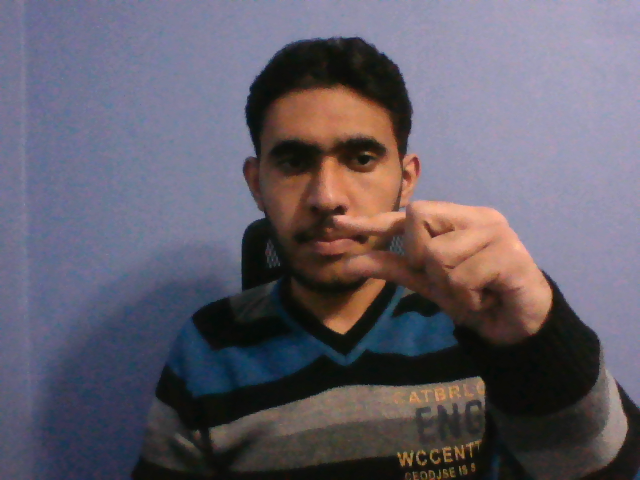G: (327, 196, 565, 356)
